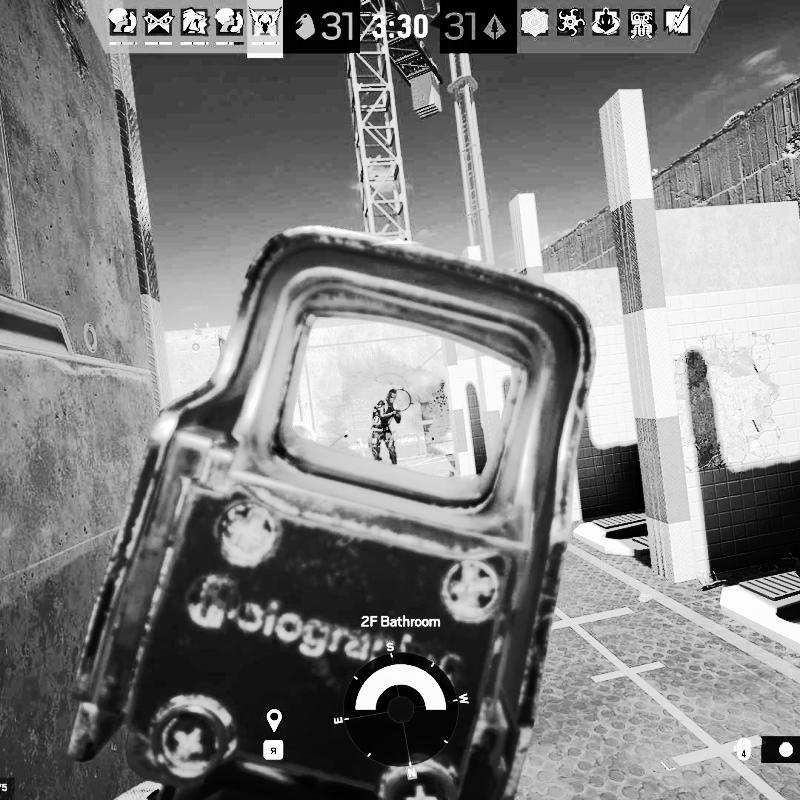Character: (370, 386, 404, 468)
Head: (386, 388, 398, 404)
